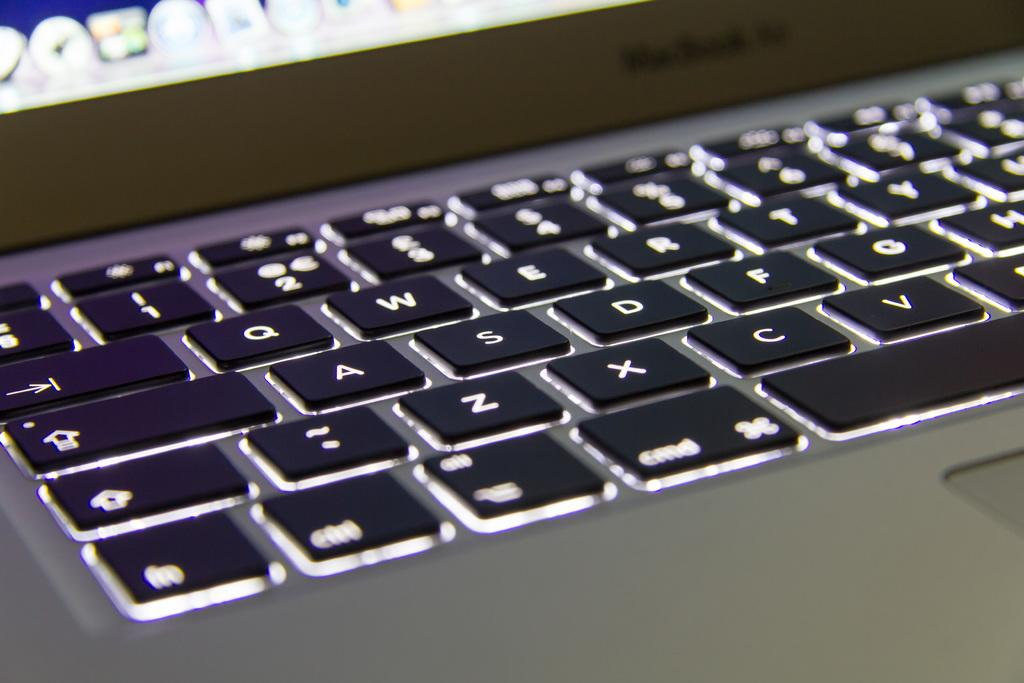Laptop: (50, 3, 1024, 638)
